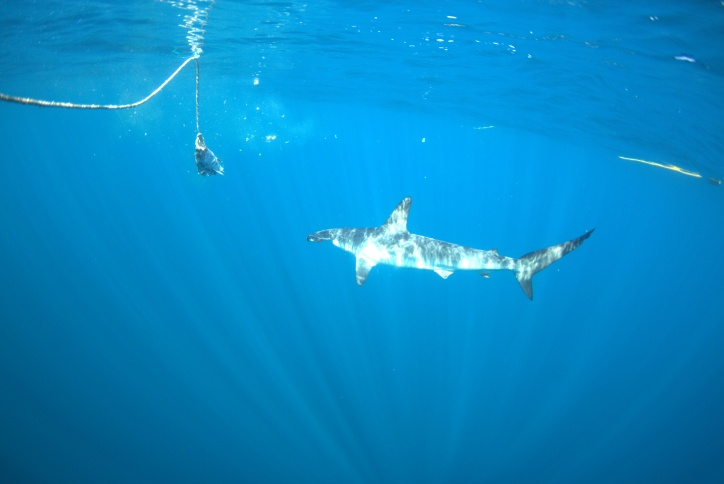Hammer: (289, 167, 602, 335)
